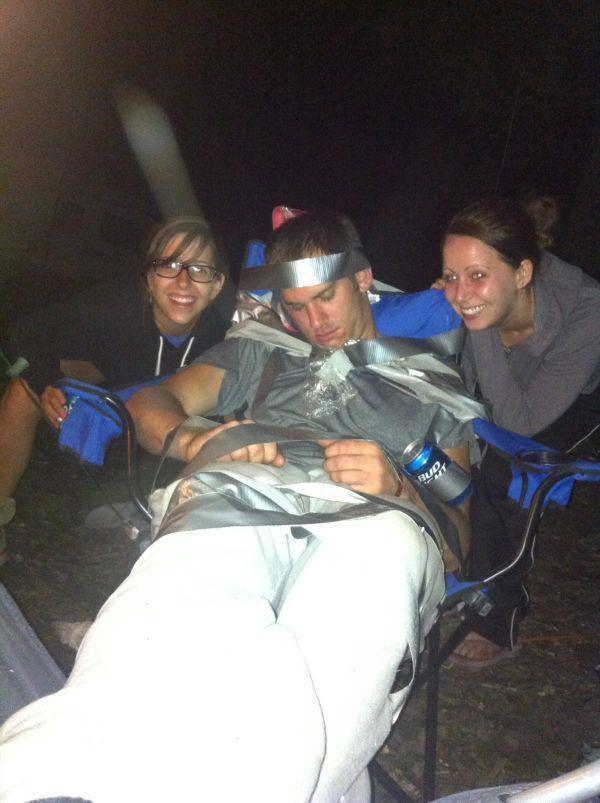Drunk: (272, 260, 368, 346), (141, 227, 221, 324), (432, 235, 512, 329)
